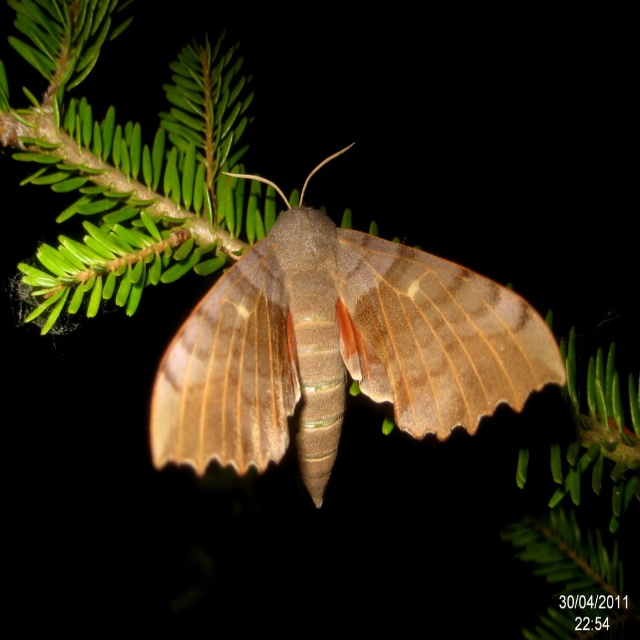Moths and butterflies: (148, 145, 566, 521)
